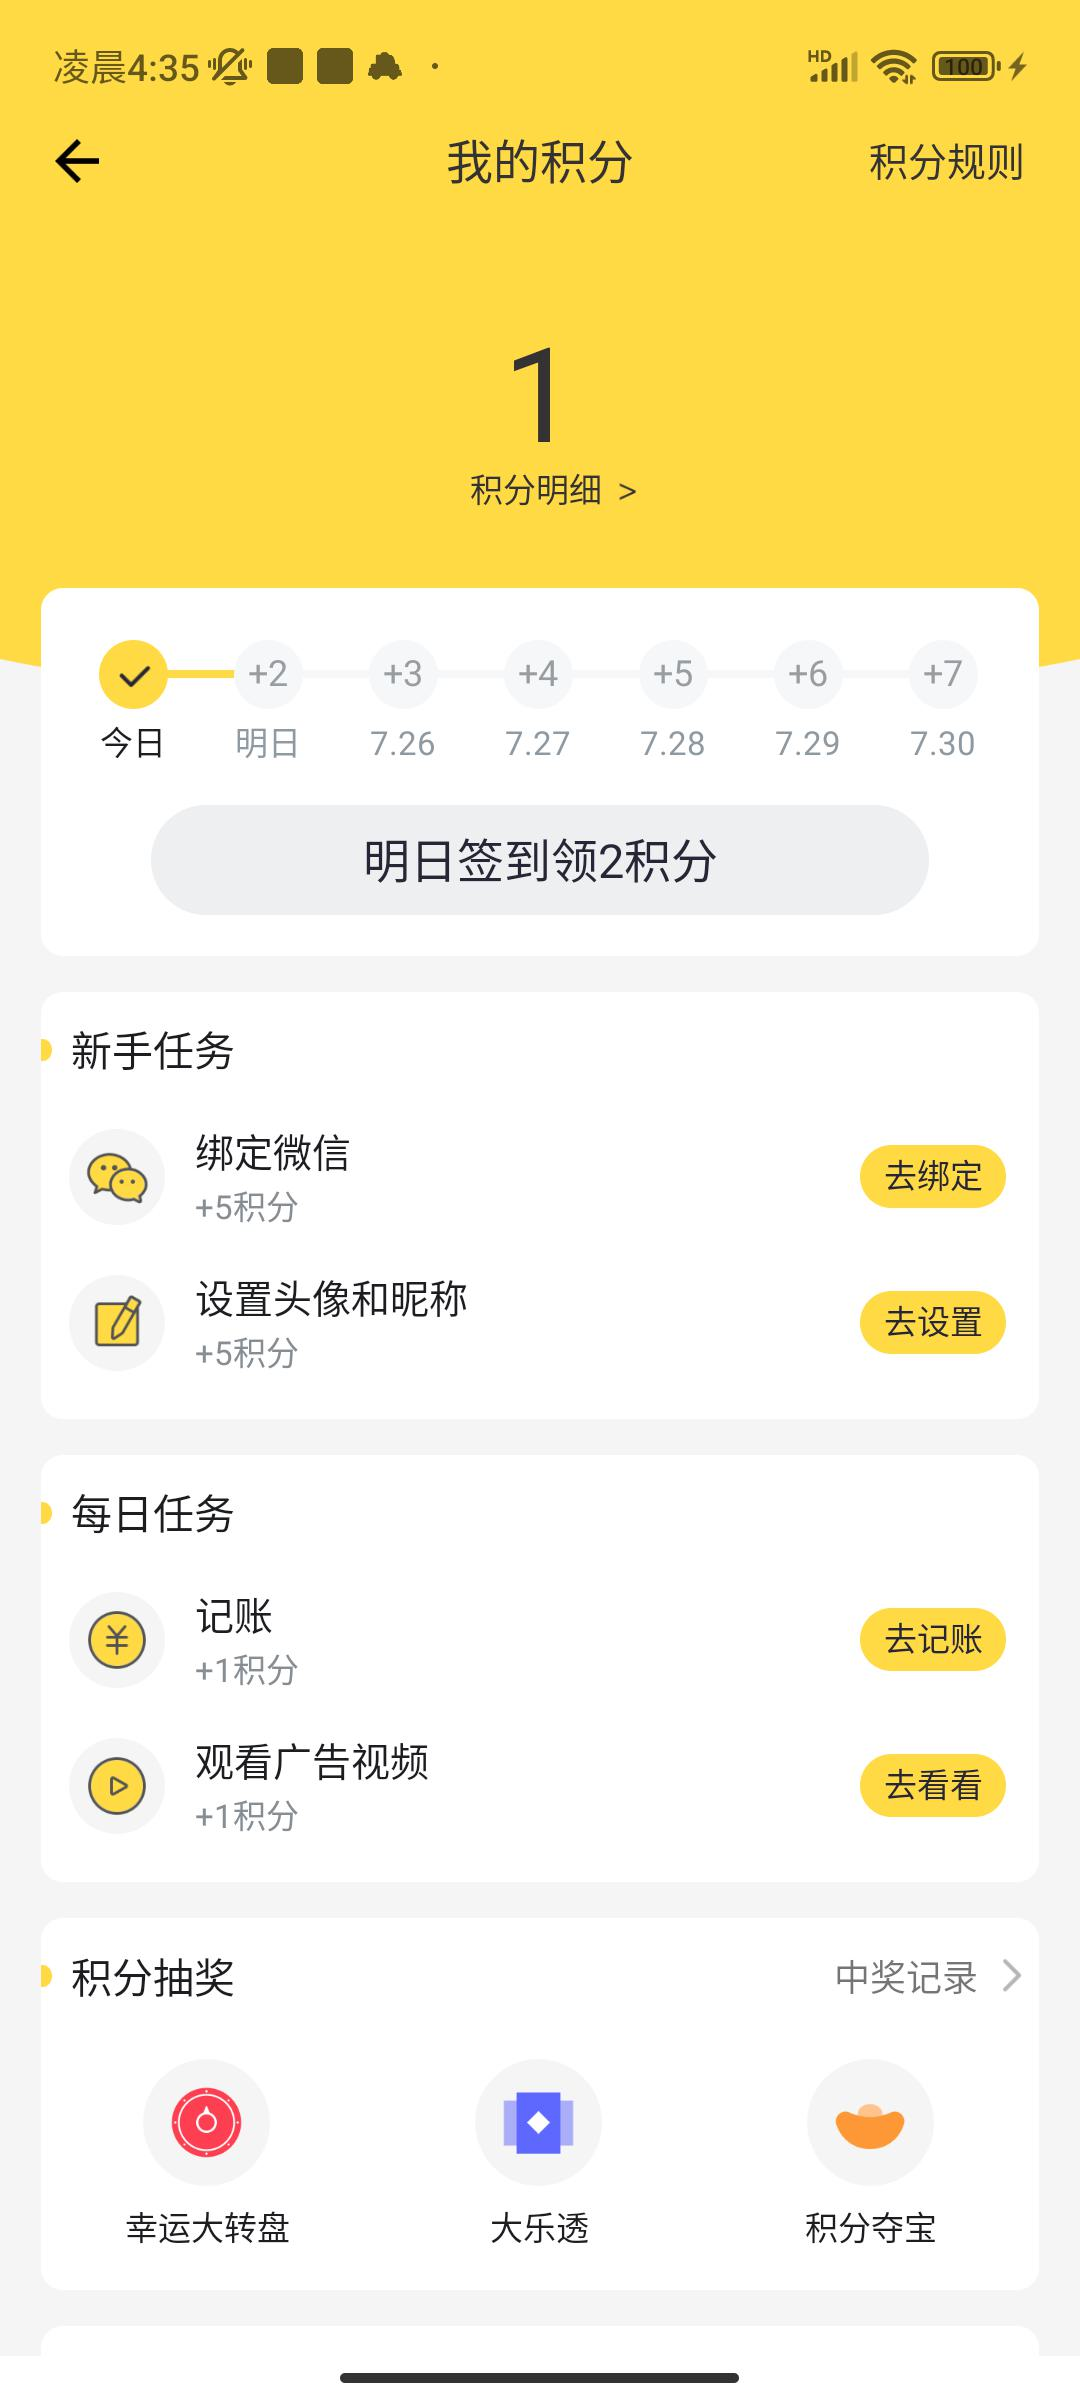ui_group: (69, 1091, 1011, 1238), (64, 1261, 1022, 1401), (61, 1564, 1016, 1702), (67, 1727, 1023, 1851)
